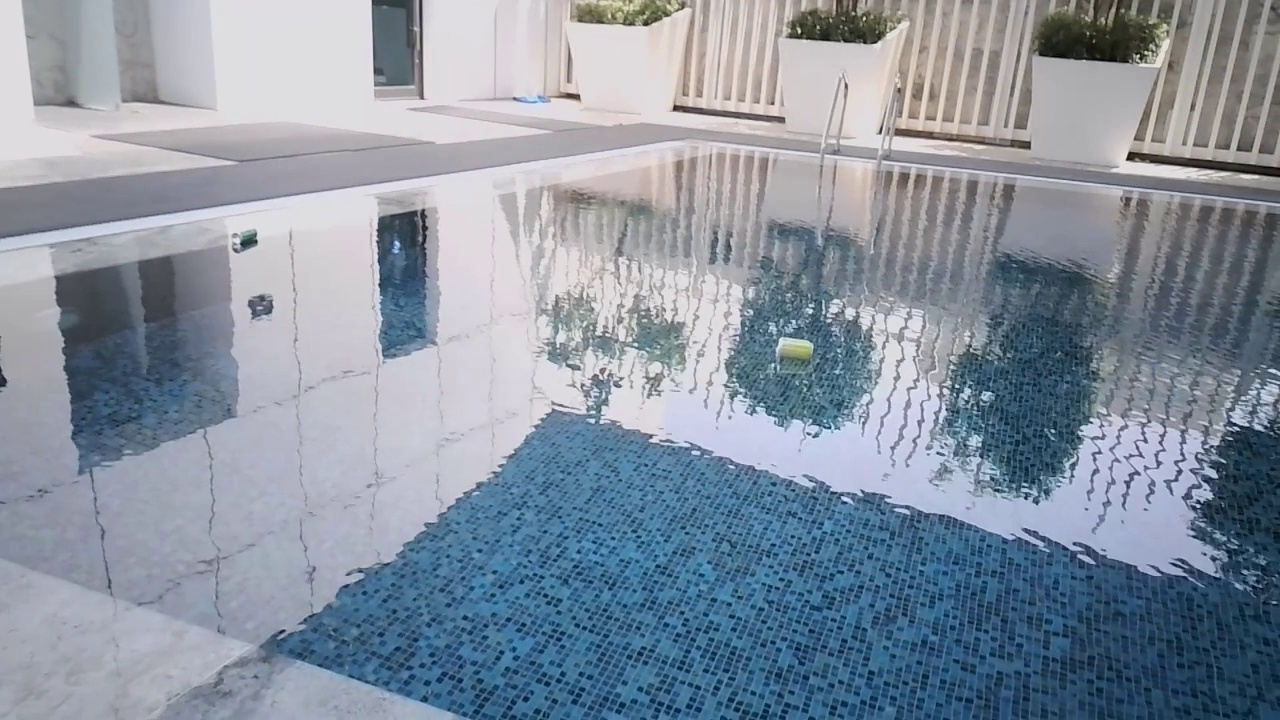debris: (772, 330, 818, 366)
